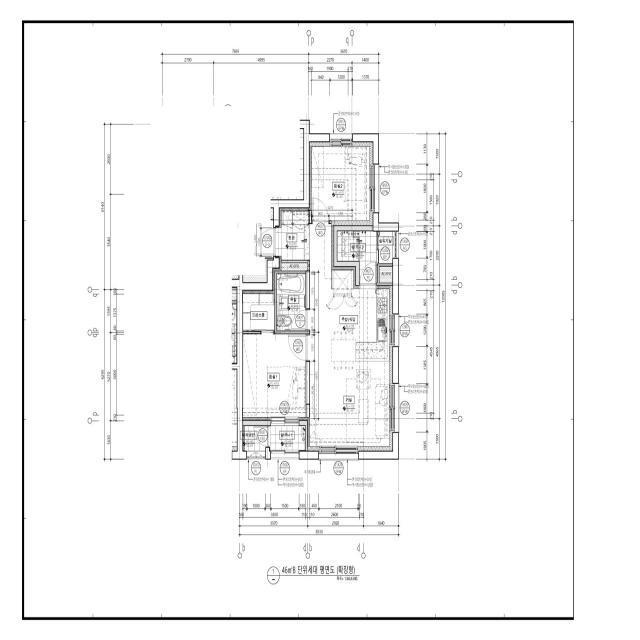space_balconi: (337, 231, 377, 283), (270, 426, 306, 450)
space_bedroom: (243, 334, 306, 420), (310, 142, 373, 225)
space_dressroom: (243, 291, 274, 331)
space_front: (276, 208, 310, 260)
space_kitchen: (331, 267, 392, 361)
space_living_room: (308, 224, 392, 451)
space_other: (243, 426, 268, 451), (280, 263, 308, 271), (379, 266, 392, 283)
space_outdoor_room: (379, 232, 393, 263)
space_toilet: (277, 273, 306, 331)
